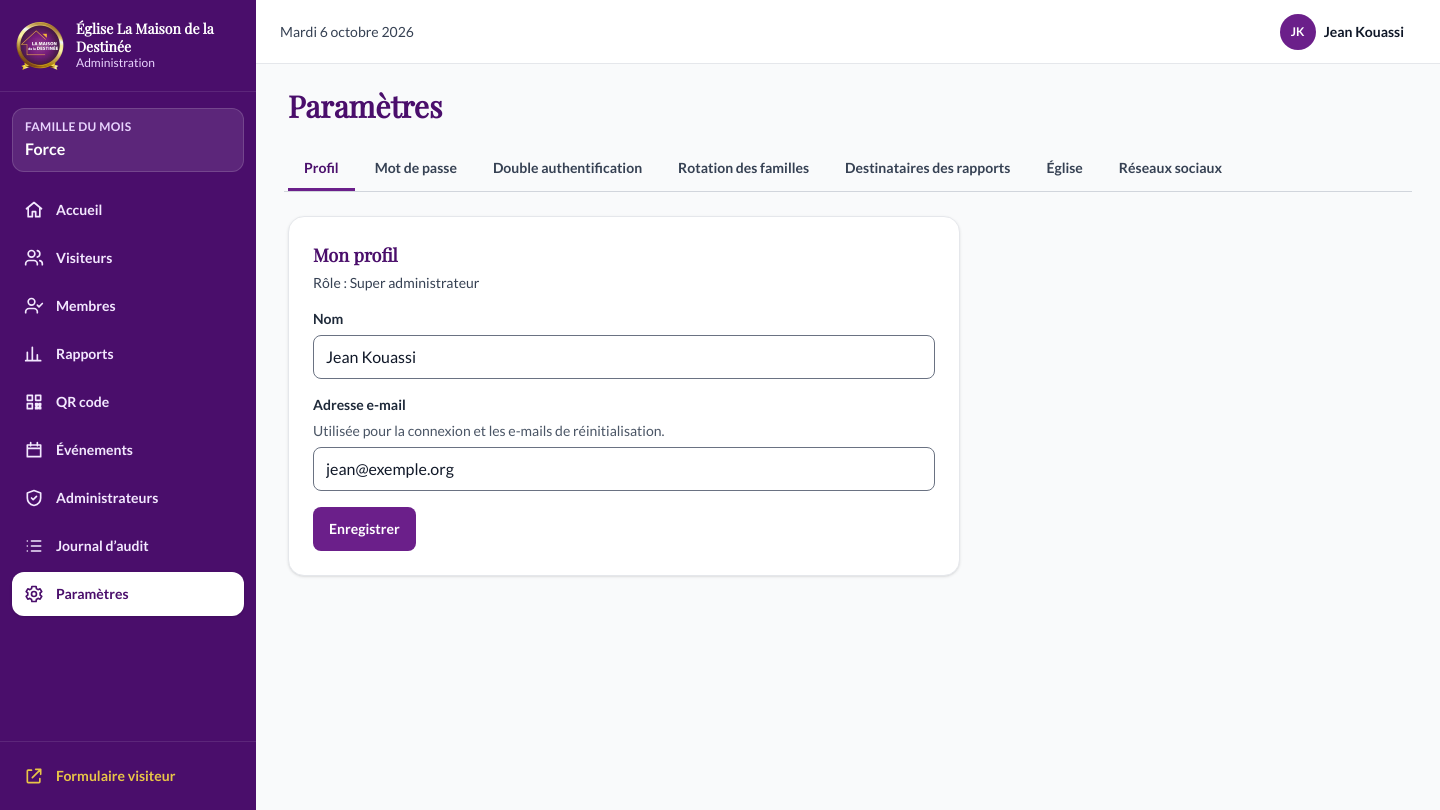
Test case: profil › exige le mot de passe actuel pour changer d’adresse e-mail et y rattache le refus du serveur (422)
Expected: the field labelled "Mot de passe actuel" is not shown
Replace the text in the field labelled "Adresse e-mail" with "jean.nouveau@exemple.org" at (624, 469), box [313,447,935,491]
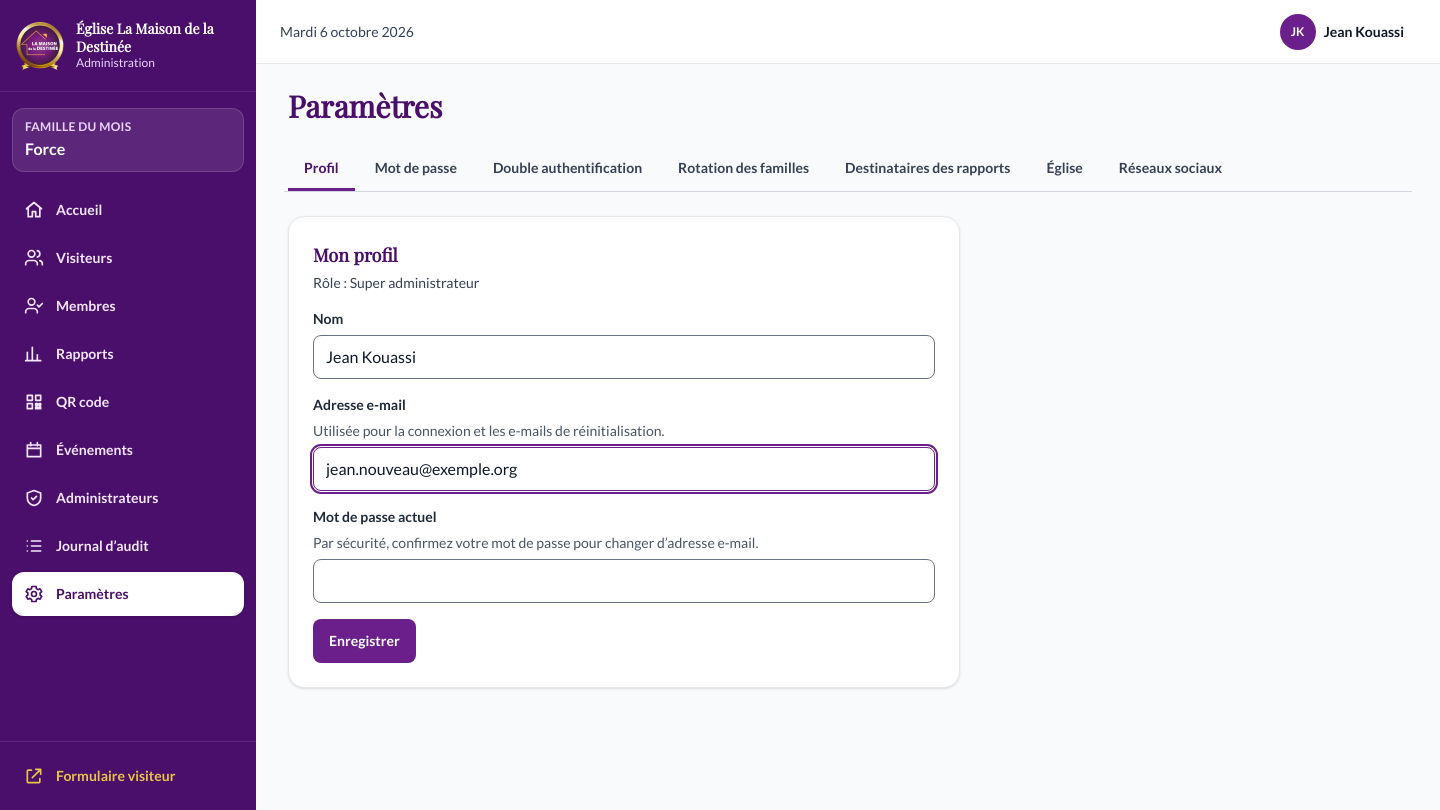
Note: Champ vide : refus côté client, aucune requête.
Click the button "Enregistrer".
click(364, 641)  # box [313,619,416,663]
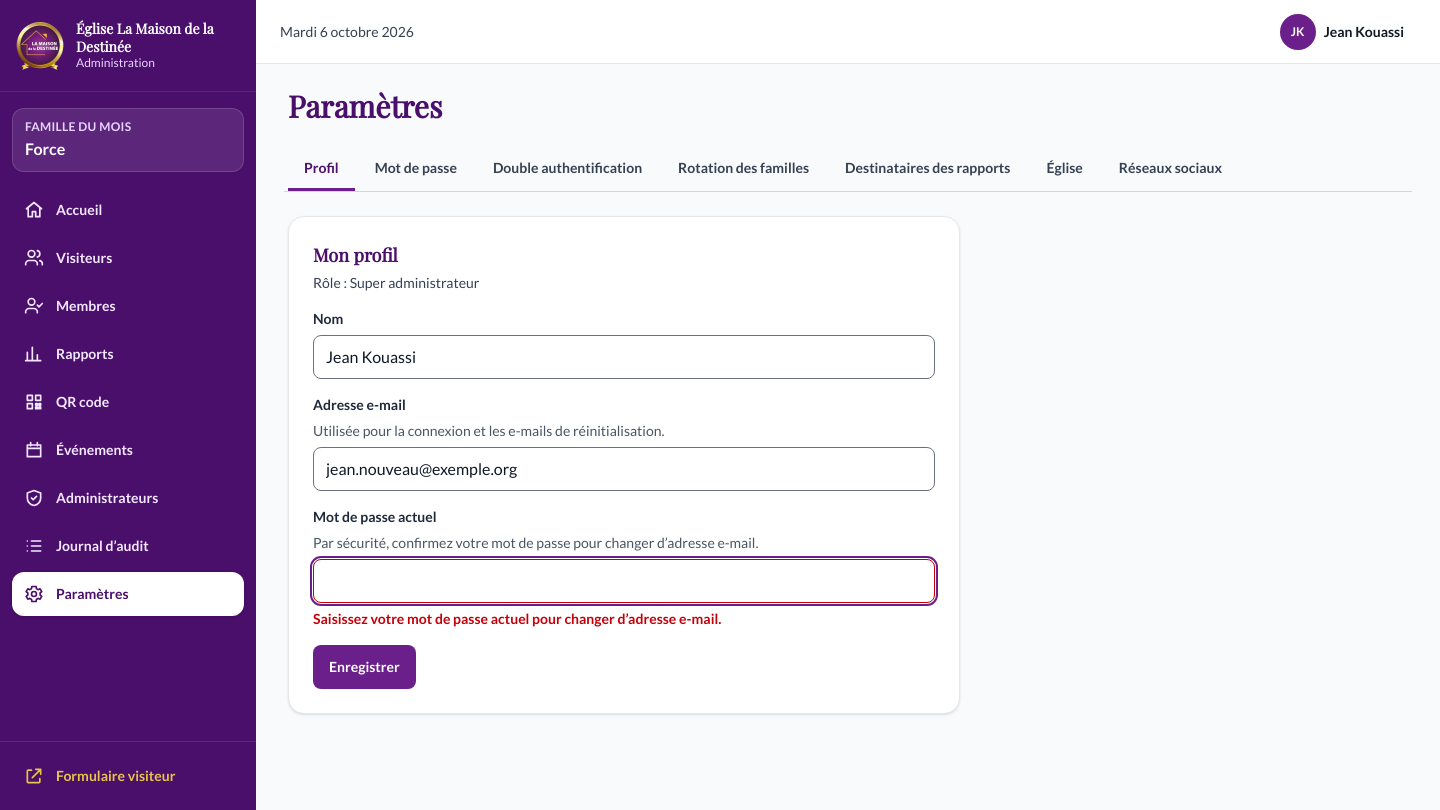
Note: Mot de passe erroné : l'erreur 422 est rattachée au champ.
Type "mauvais-mot-de-passe-1" into the password field labelled "Mot de passe actuel".
click(624, 581); type("mauvais-mot-de-passe-1")  # box [313,559,935,603]
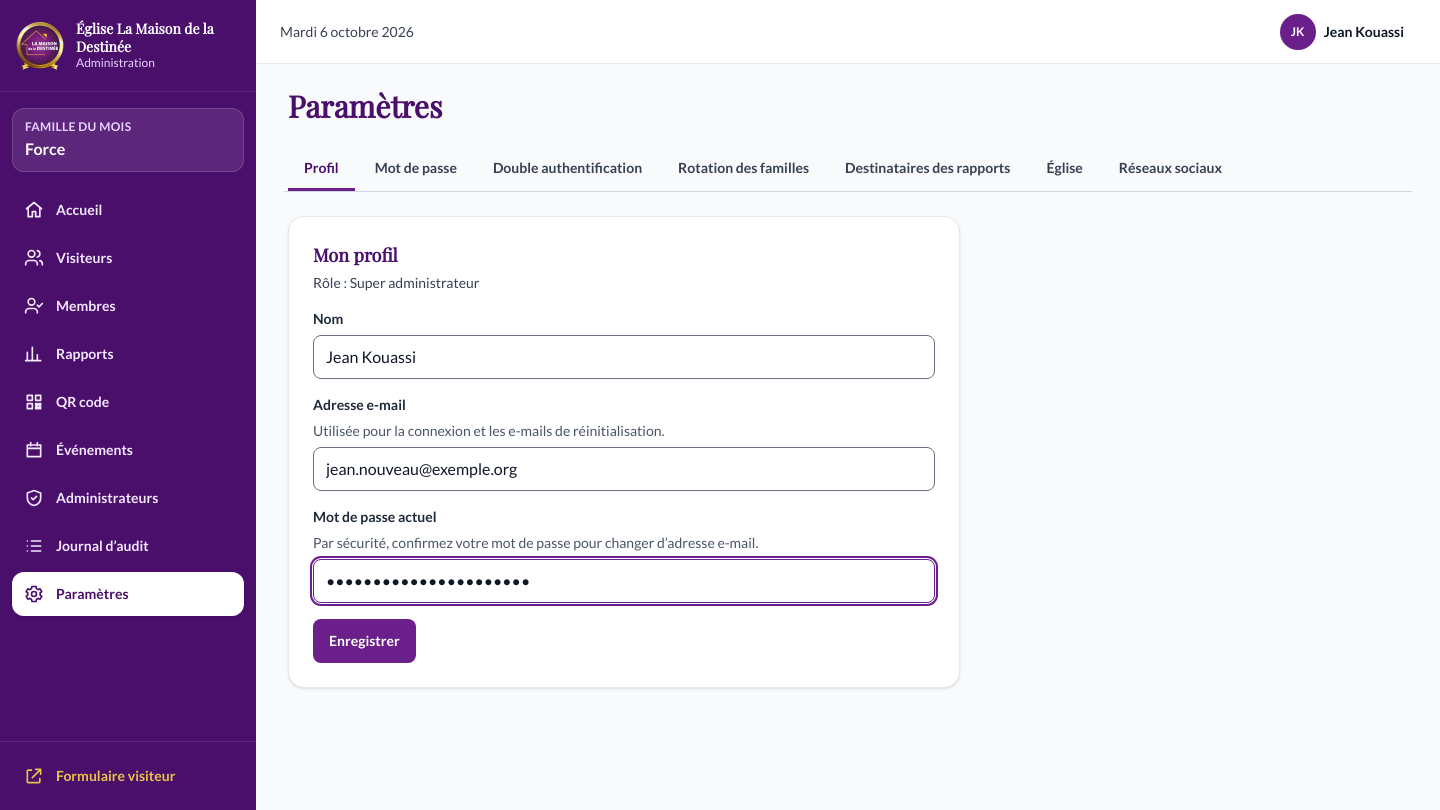
Click the button "Enregistrer".
click(364, 641)  # box [313,619,416,663]
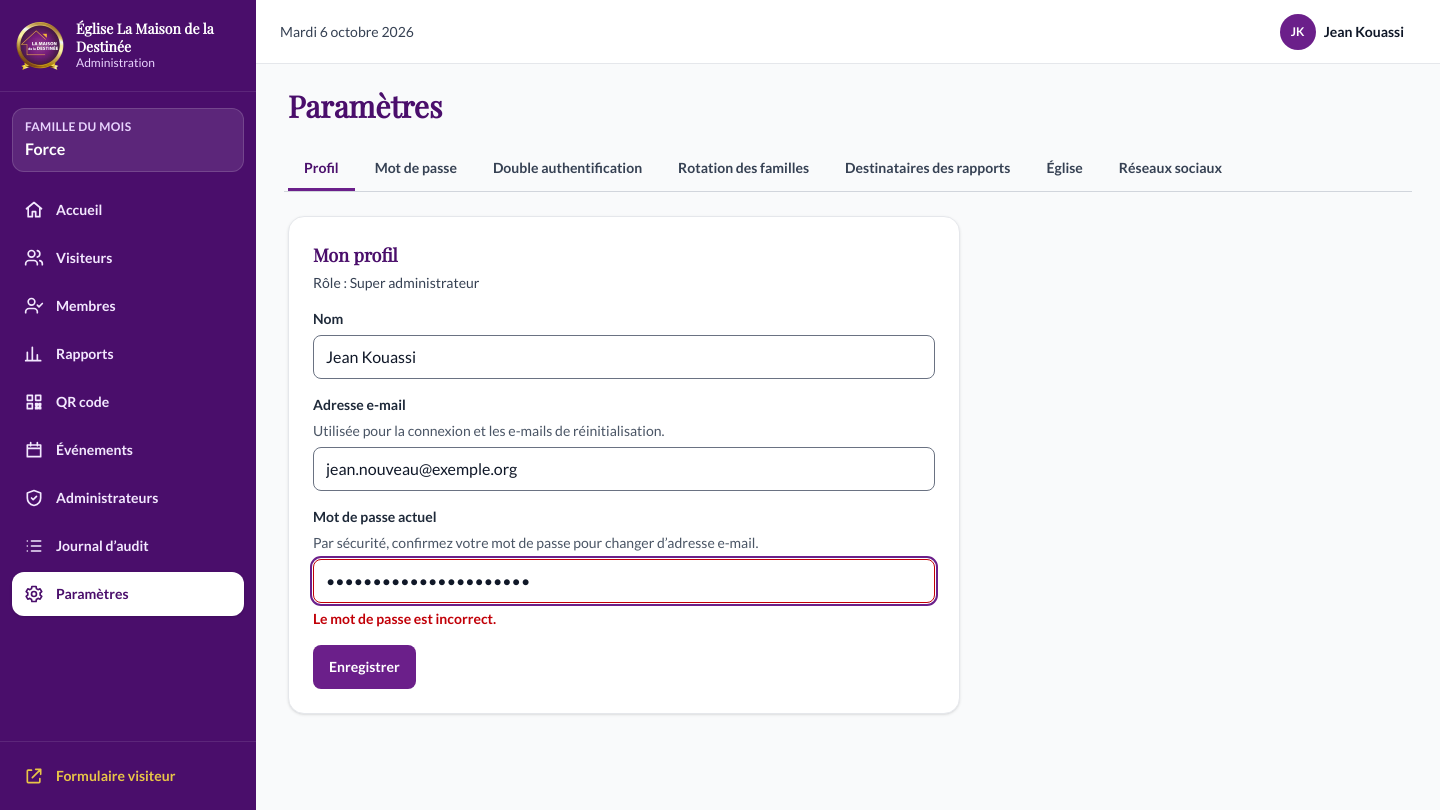
Type "motdepasse-solide-1" into the password field labelled "Mot de passe actuel".
click(624, 581); type("motdepasse-solide-1")  # box [313,559,935,603]
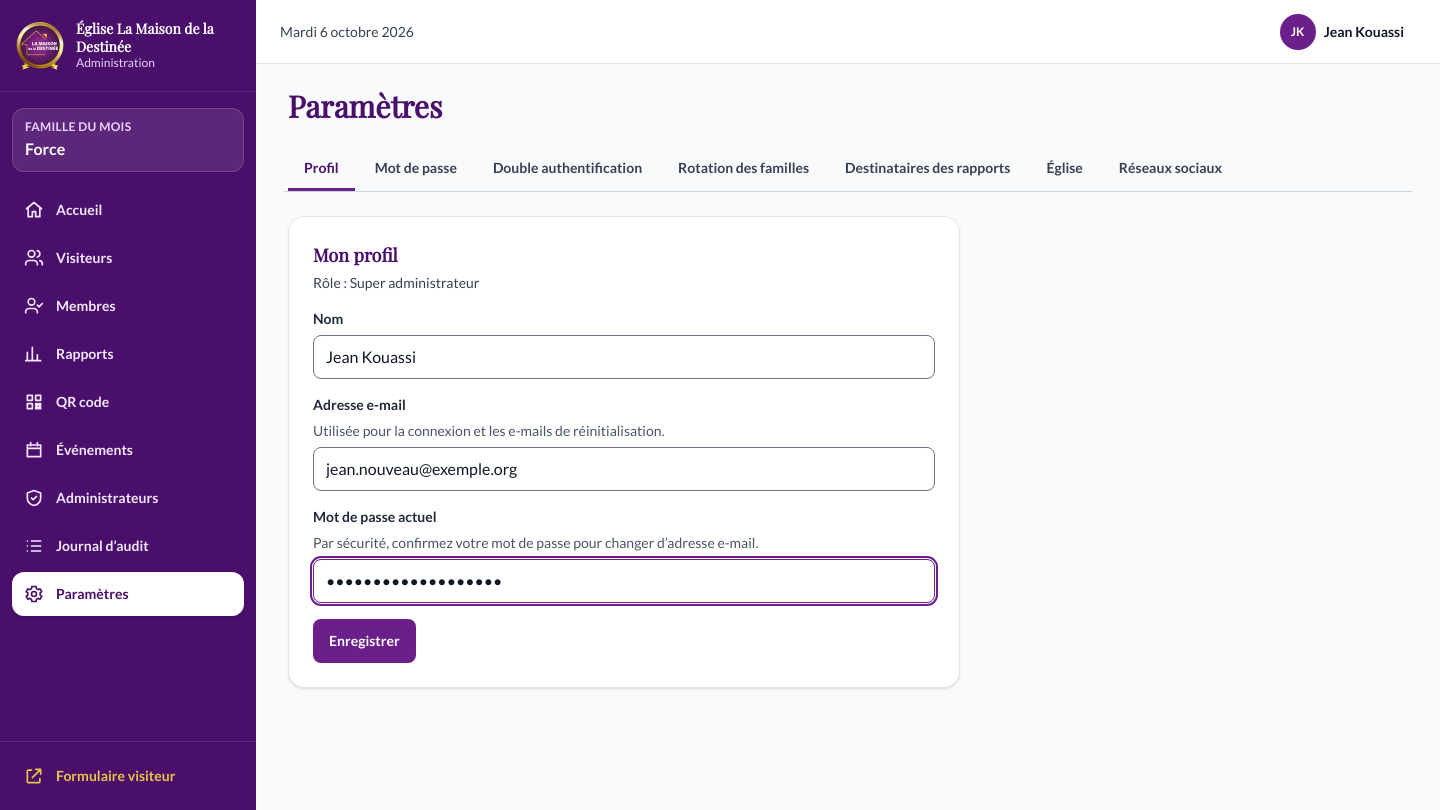
Click the button "Enregistrer".
click(364, 641)  # box [313,619,416,663]
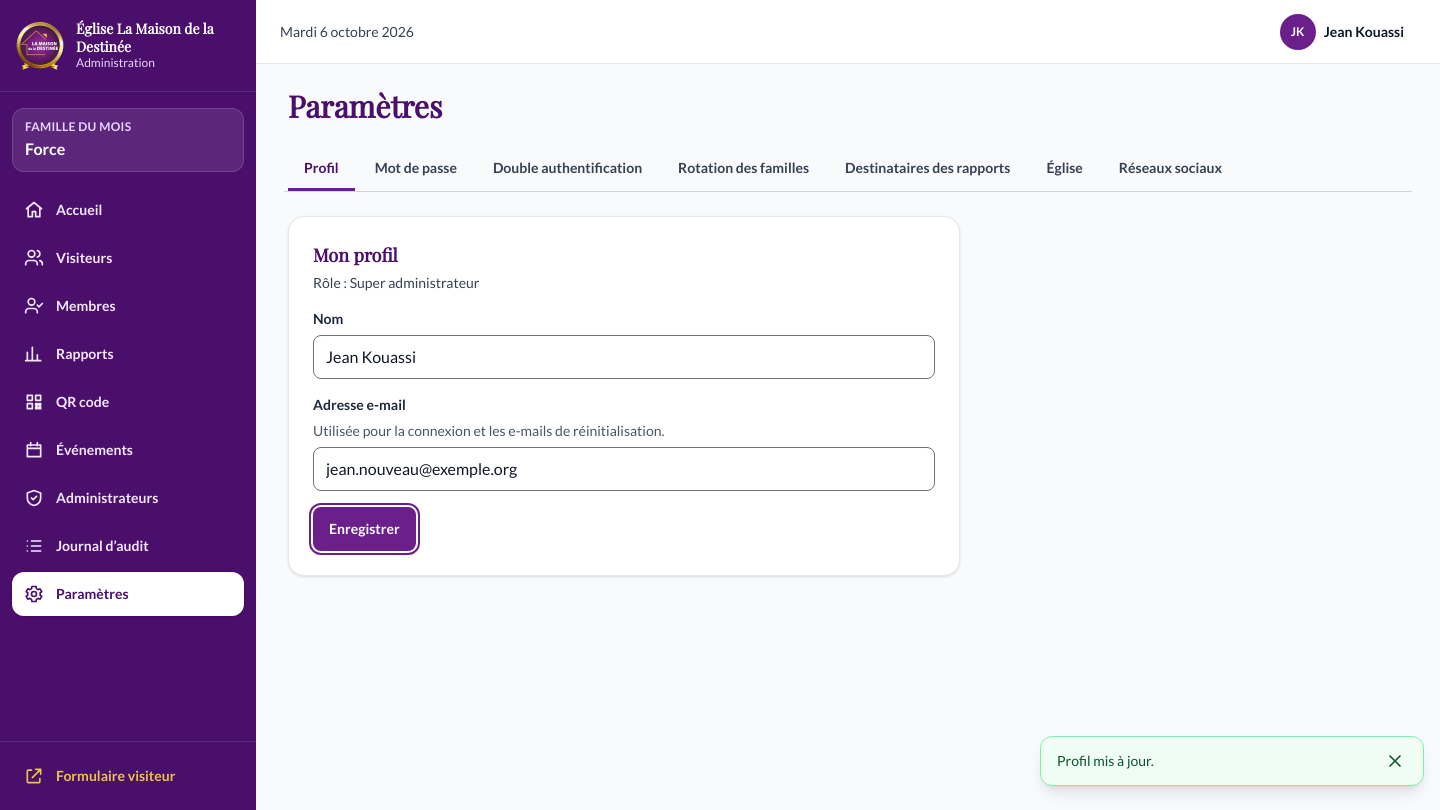
Expected: the text "Profil mis à jour." is shown, [1057,752,1154,769]
Expected: the label labelled "Mot de passe actuel" is gone
